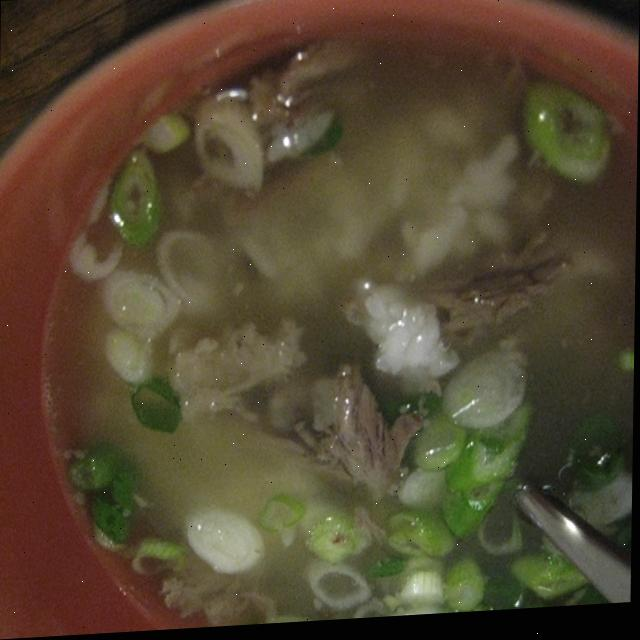汤锅炖物: (51, 36, 635, 637)
